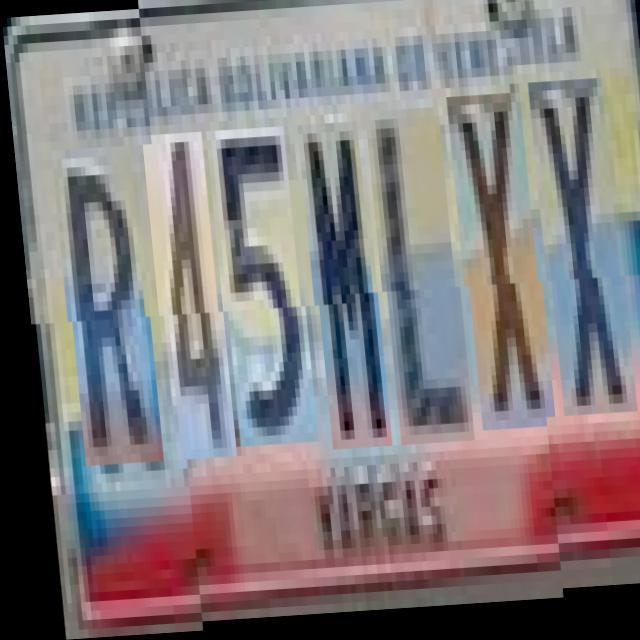4: (144, 134, 228, 462)
5: (208, 130, 309, 450)
L: (367, 113, 465, 450)
M: (298, 126, 382, 454)
R: (53, 138, 154, 458)
X: (448, 100, 546, 437), (530, 95, 628, 432)
